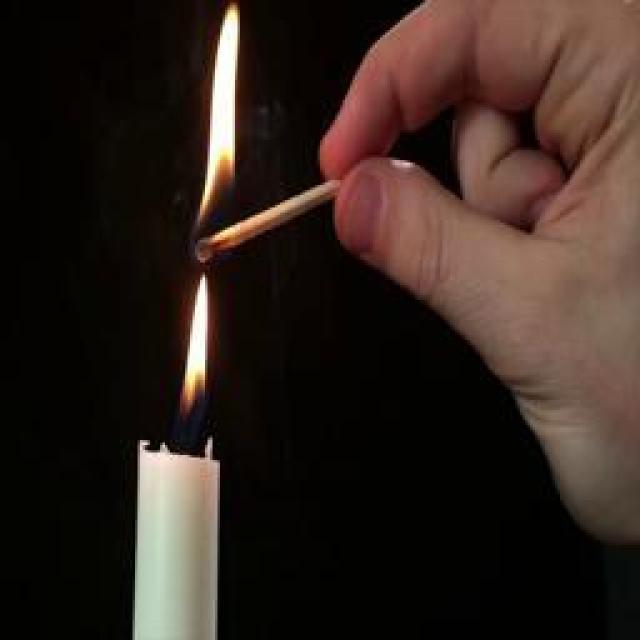Fire: (196, 8, 242, 236), (181, 275, 211, 415)
